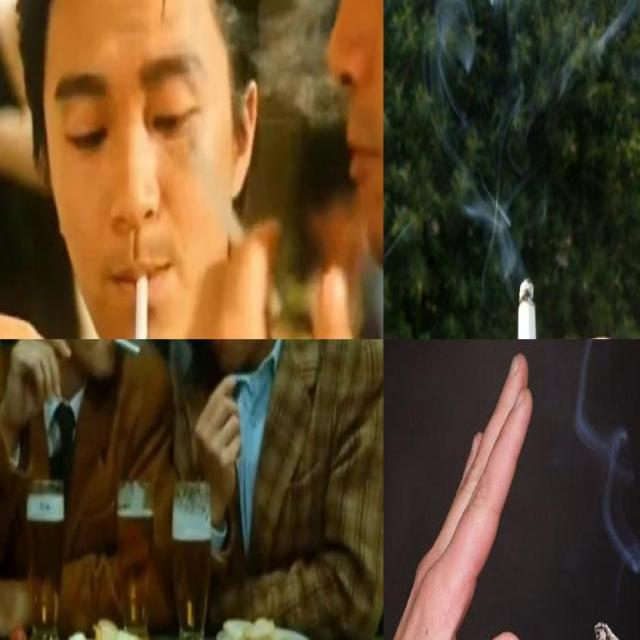cigarette: (514, 276, 538, 338), (134, 271, 150, 338), (107, 339, 143, 357)
